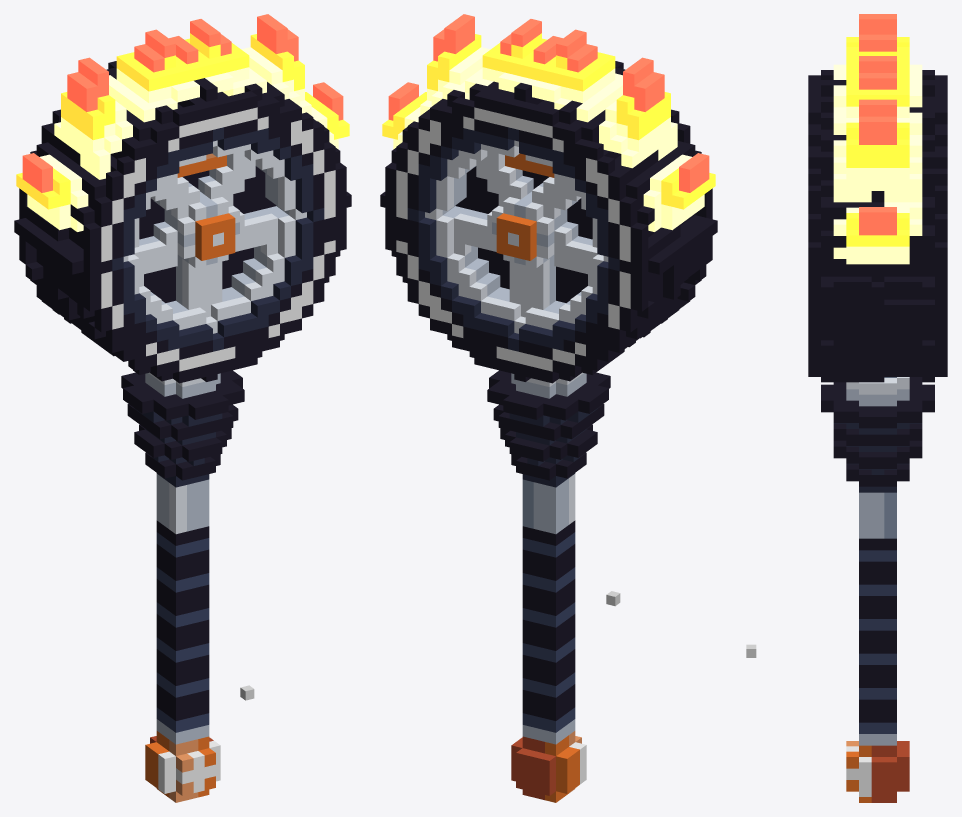
Rendered from WheelieWrecker.fbx.
The picture shows the model from 3 angles, left to right: view 1: azimuth 30°, elevation 25°; view 2: azimuth 150°, elevation 25°; view 3: azimuth 270°, elevation 25°; orthographic projection.
Visible parts, largest first — view 1: tyre, chrome_l, tyre_l, flame_y, stripe, flame, grip, flame_r, chrome, grip_l, paint, paint_l; view 2: tyre, chrome_l, tyre_l, flame_y, flame, stripe, grip, flame_r, chrome, grip_l, paint, paint_d; view 3: tyre, flame_y, flame, flame_r, grip, grip_l, chrome, paint_d, tyre_l, chrome_l, stripe, chrome_d (+1 smaller).
Part boxes in pixels (left/top/right/bottom): tyre: left=14, top=61, right=351, bottom=480; chrome_l: left=123, top=140, right=306, bottom=534; tyre_l: left=112, top=127, right=324, bottom=487; flame_y: left=27, top=47, right=338, bottom=231; stripe: left=101, top=107, right=335, bottom=793; flame: left=16, top=33, right=349, bottom=209; grip: left=156, top=520, right=209, bottom=720; flame_r: left=22, top=14, right=343, bottom=192; chrome: left=139, top=165, right=289, bottom=744; grip_l: left=156, top=532, right=209, bottom=732; paint: left=145, top=155, right=235, bottom=797; paint_l: left=169, top=153, right=216, bottom=802; tyre: left=380, top=61, right=717, bottom=480; chrome_l: left=425, top=140, right=608, bottom=524; tyre_l: left=407, top=127, right=619, bottom=487; flame_y: left=393, top=47, right=704, bottom=231; flame: left=382, top=33, right=715, bottom=209; stripe: left=396, top=107, right=630, bottom=784; grip: left=522, top=520, right=575, bottom=720; flame_r: left=388, top=14, right=709, bottom=192; chrome: left=442, top=165, right=592, bottom=744; grip_l: left=522, top=532, right=575, bottom=732; paint: left=496, top=153, right=579, bottom=802; paint_d: left=511, top=736, right=555, bottom=800; tyre: left=808, top=70, right=947, bottom=486; flame_y: left=833, top=64, right=922, bottom=264; flame: left=846, top=37, right=909, bottom=246; flame_r: left=859, top=14, right=896, bottom=235; grip: left=859, top=538, right=896, bottom=722; grip_l: left=859, top=550, right=896, bottom=733; chrome: left=846, top=389, right=909, bottom=745; paint_d: left=871, top=741, right=909, bottom=802; tyre_l: left=833, top=423, right=922, bottom=492; chrome_l: left=846, top=377, right=909, bottom=394; stripe: left=846, top=746, right=871, bottom=796; chrome_d: left=884, top=377, right=896, bottom=538.
Size of the model in its own units: 270 by 650 by 159.
